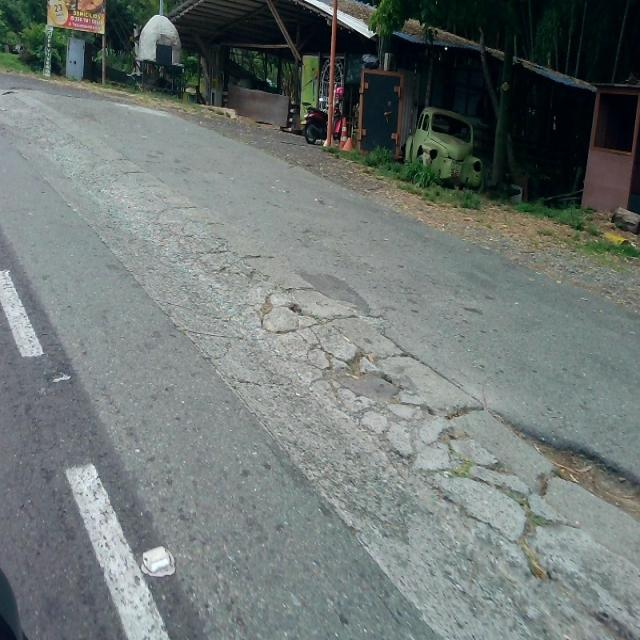DITCH: (1, 55, 638, 638), (1, 71, 638, 638)
